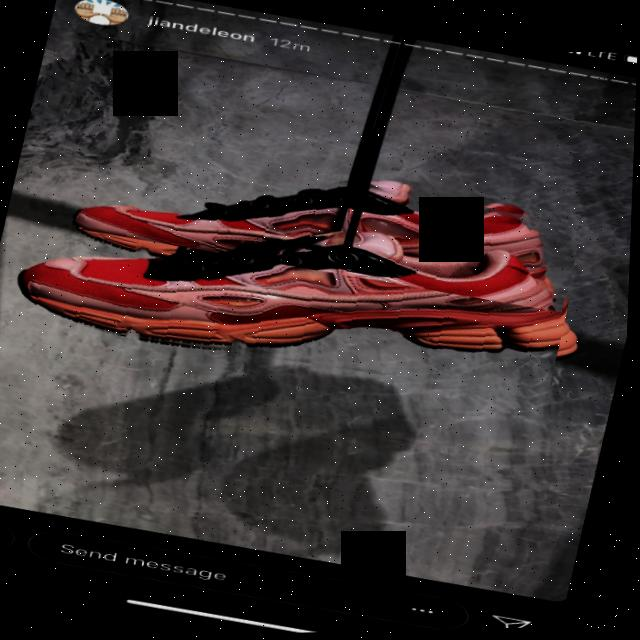shoe: (10, 161, 583, 423), (60, 120, 590, 324)
